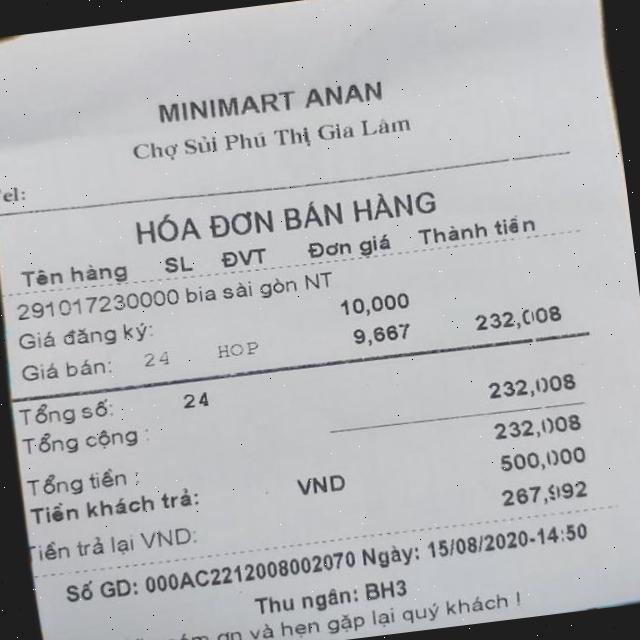Date: (426, 524, 532, 564)
Store_Name: (112, 64, 415, 141)
amount_number: (479, 364, 587, 410)
label_total: (14, 416, 143, 464)
